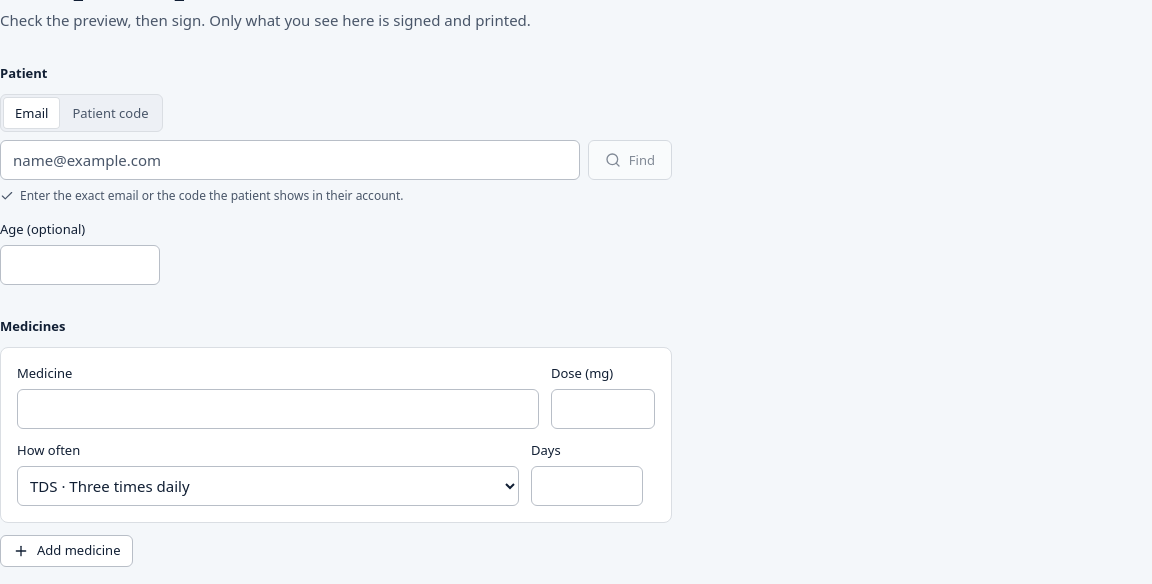
Test: NewPrescription › shows a wrong signing password on that field and clears it
In the field named "Patient email": point(290, 160) [0,140,580,180], type "ravi@example.test"
Click the button "Find": point(630, 160) [588,140,672,180]
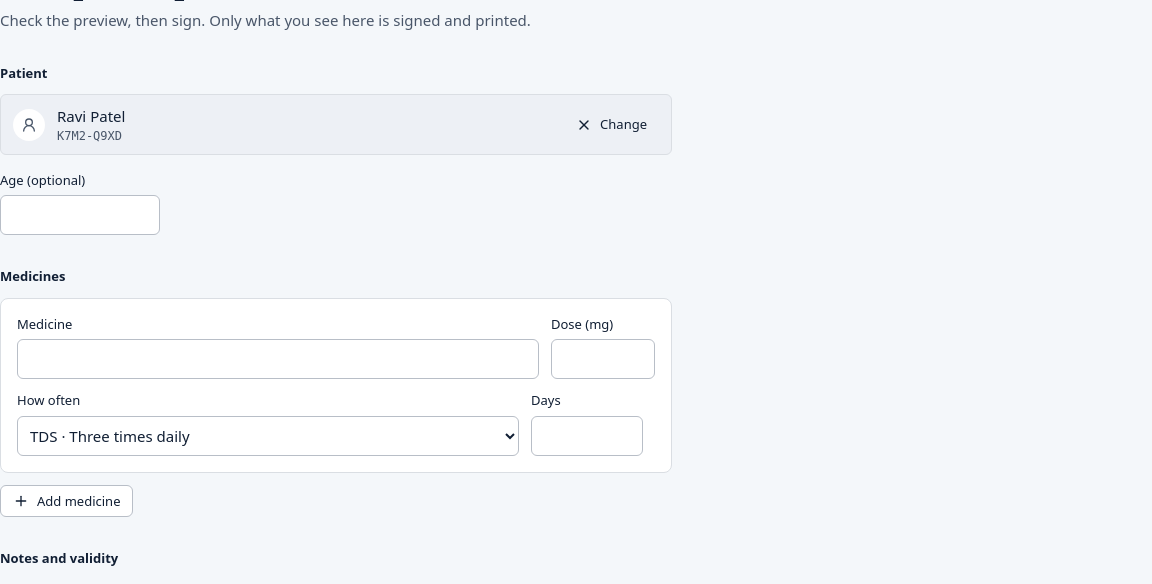
expect the text "Ravi Patel" is shown: met, box [57,105,125,128]
In the field labelled "Medicine": point(278, 359) [17,339,539,379], type "Amoxicillin"
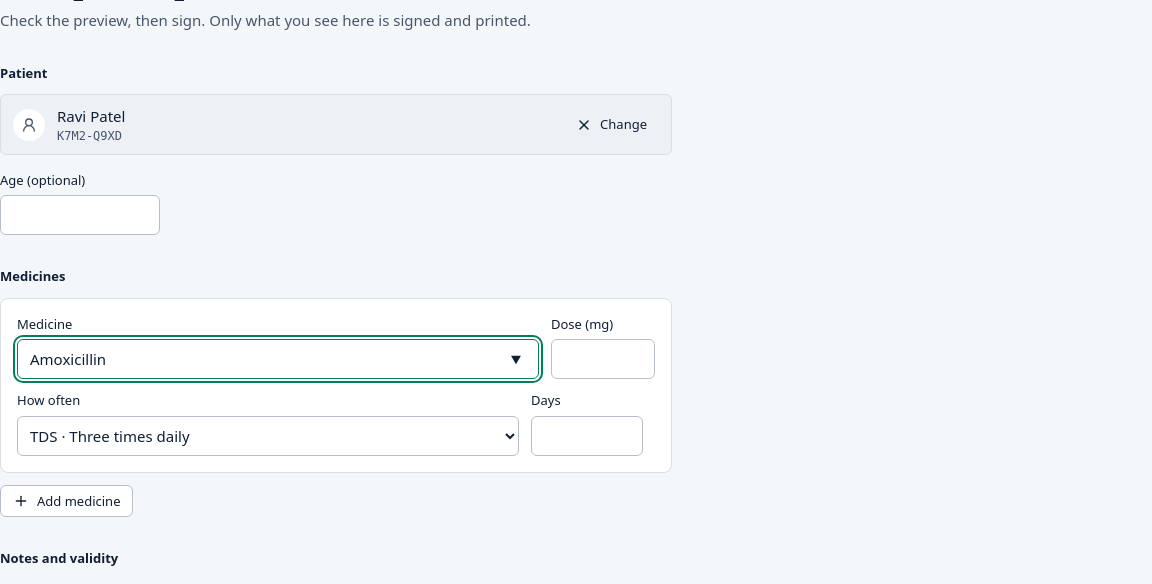
In the number field labelled "Dose (mg)": point(603, 359) [551,339,655,379], type "500"
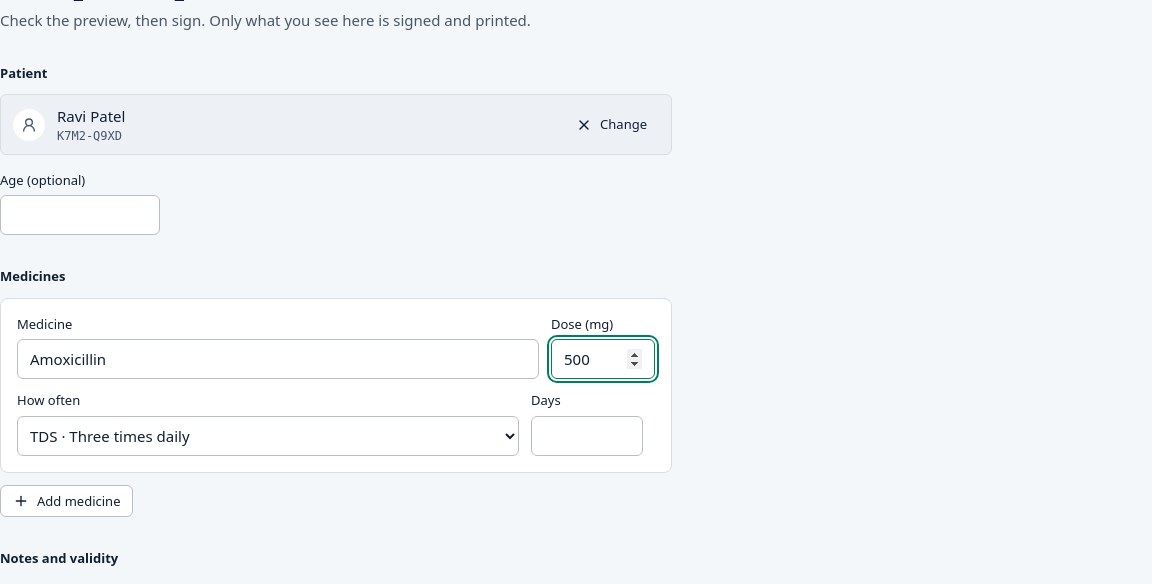
In the number field labelled "Days": point(587, 436) [531,416,643,456], type "5"
(page scrolled)
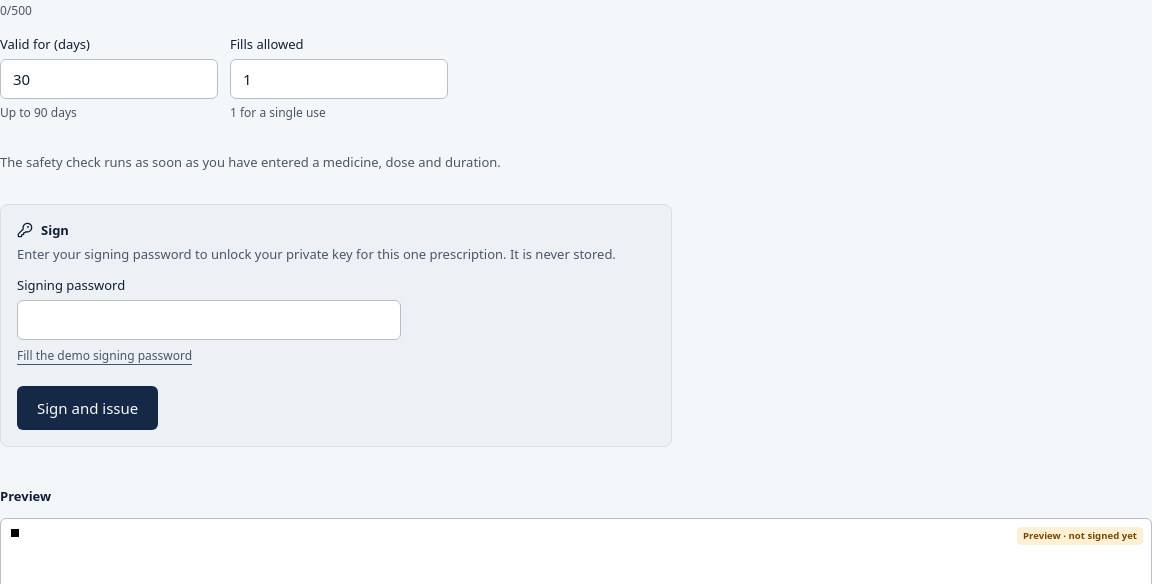
In the password field labelled "Signing password": point(209, 320) [17,300,401,340], type "a-long-signing-phrase"
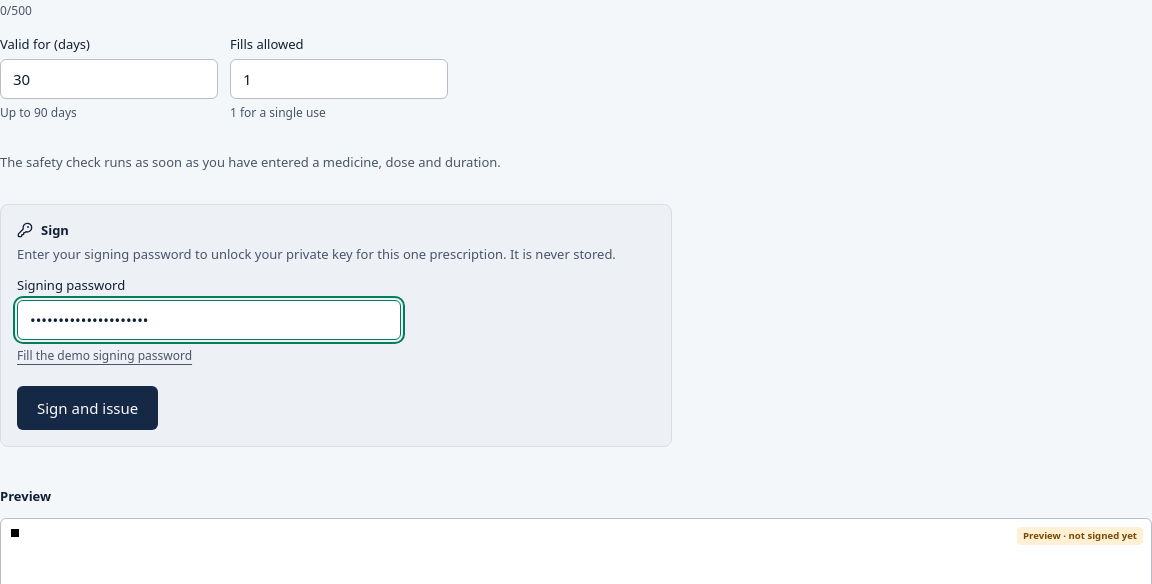
Click the button "Sign and issue": point(88, 408) [17,386,158,430]
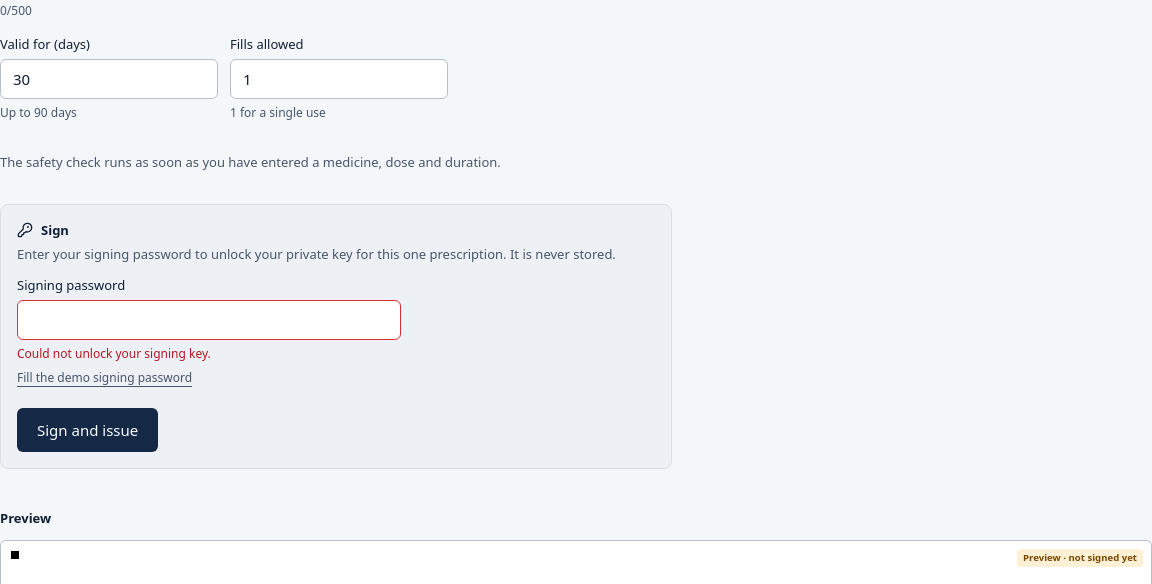
expect the text "Could not unlock your signing key." is shown: met, box [17,345,211,362]
expect the password field labelled "Signing password" is empty: met, box [17,300,401,340]
